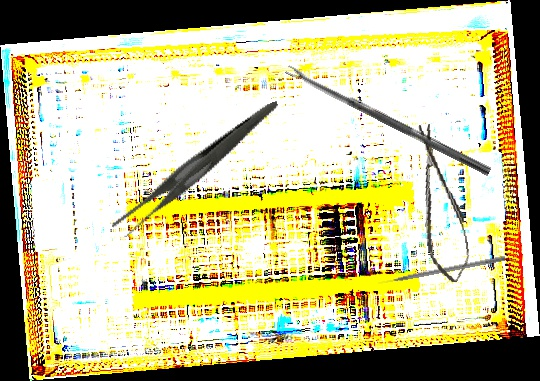Dressing Forceps: (91, 100, 303, 241)
Hook Surgical: (377, 254, 506, 286)
Micro Scissor: (408, 120, 474, 286)
Surgical Spoon: (285, 64, 492, 176)
